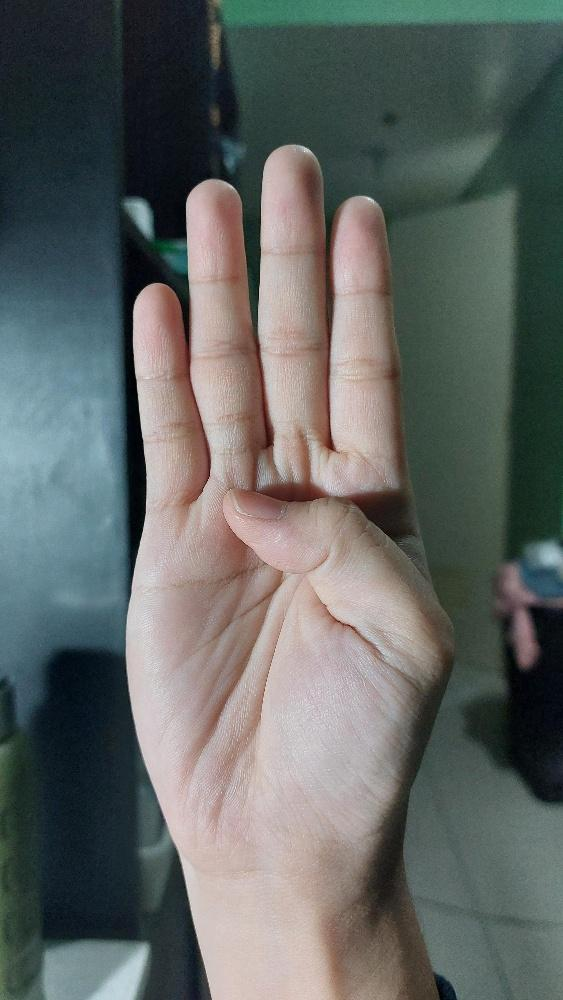b: (124, 143, 454, 877)
